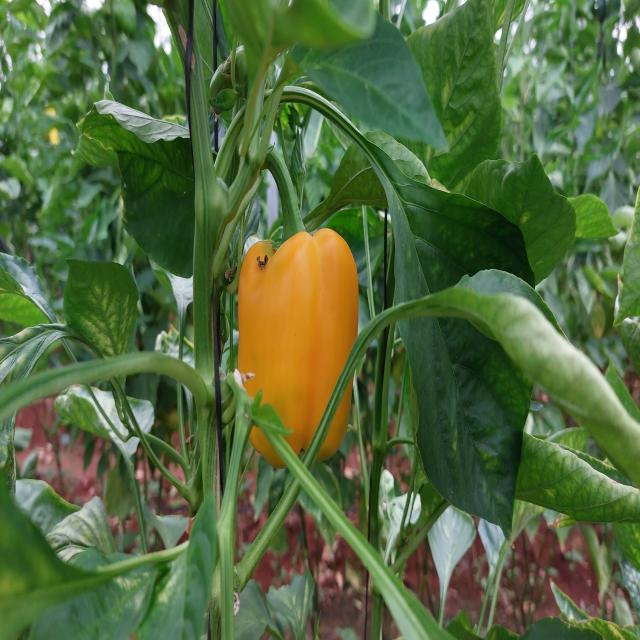Yellow-Ready-to-Harvest: (236, 230, 355, 465)
